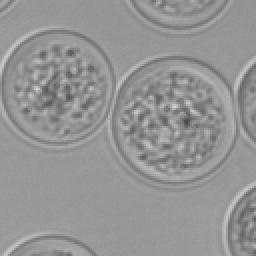picoshell: (108, 56, 243, 190), (0, 26, 114, 148), (124, 0, 230, 32), (222, 182, 254, 254), (2, 232, 96, 254), (234, 56, 254, 146)
